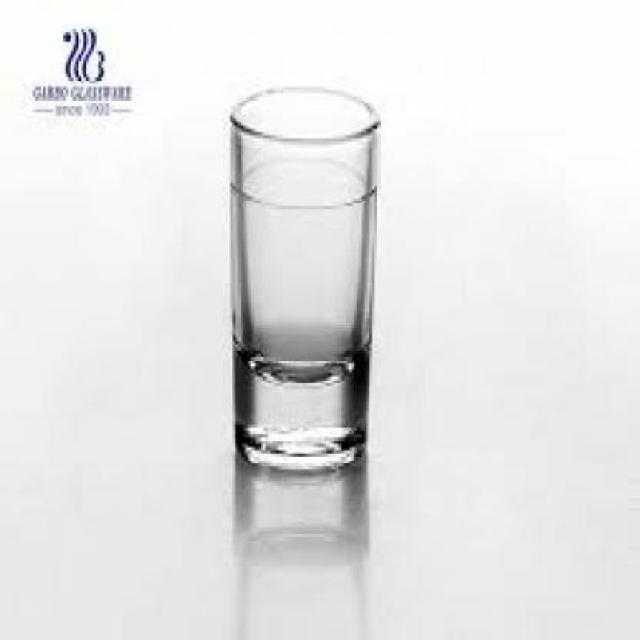kaca: (228, 84, 374, 470)
